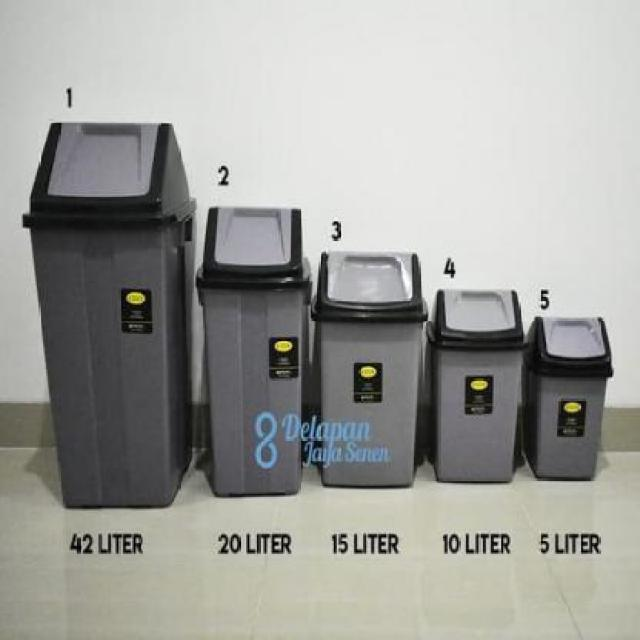garbage container: (21, 111, 194, 524), (195, 200, 312, 502), (310, 240, 425, 506), (426, 285, 526, 492), (524, 312, 618, 493)
